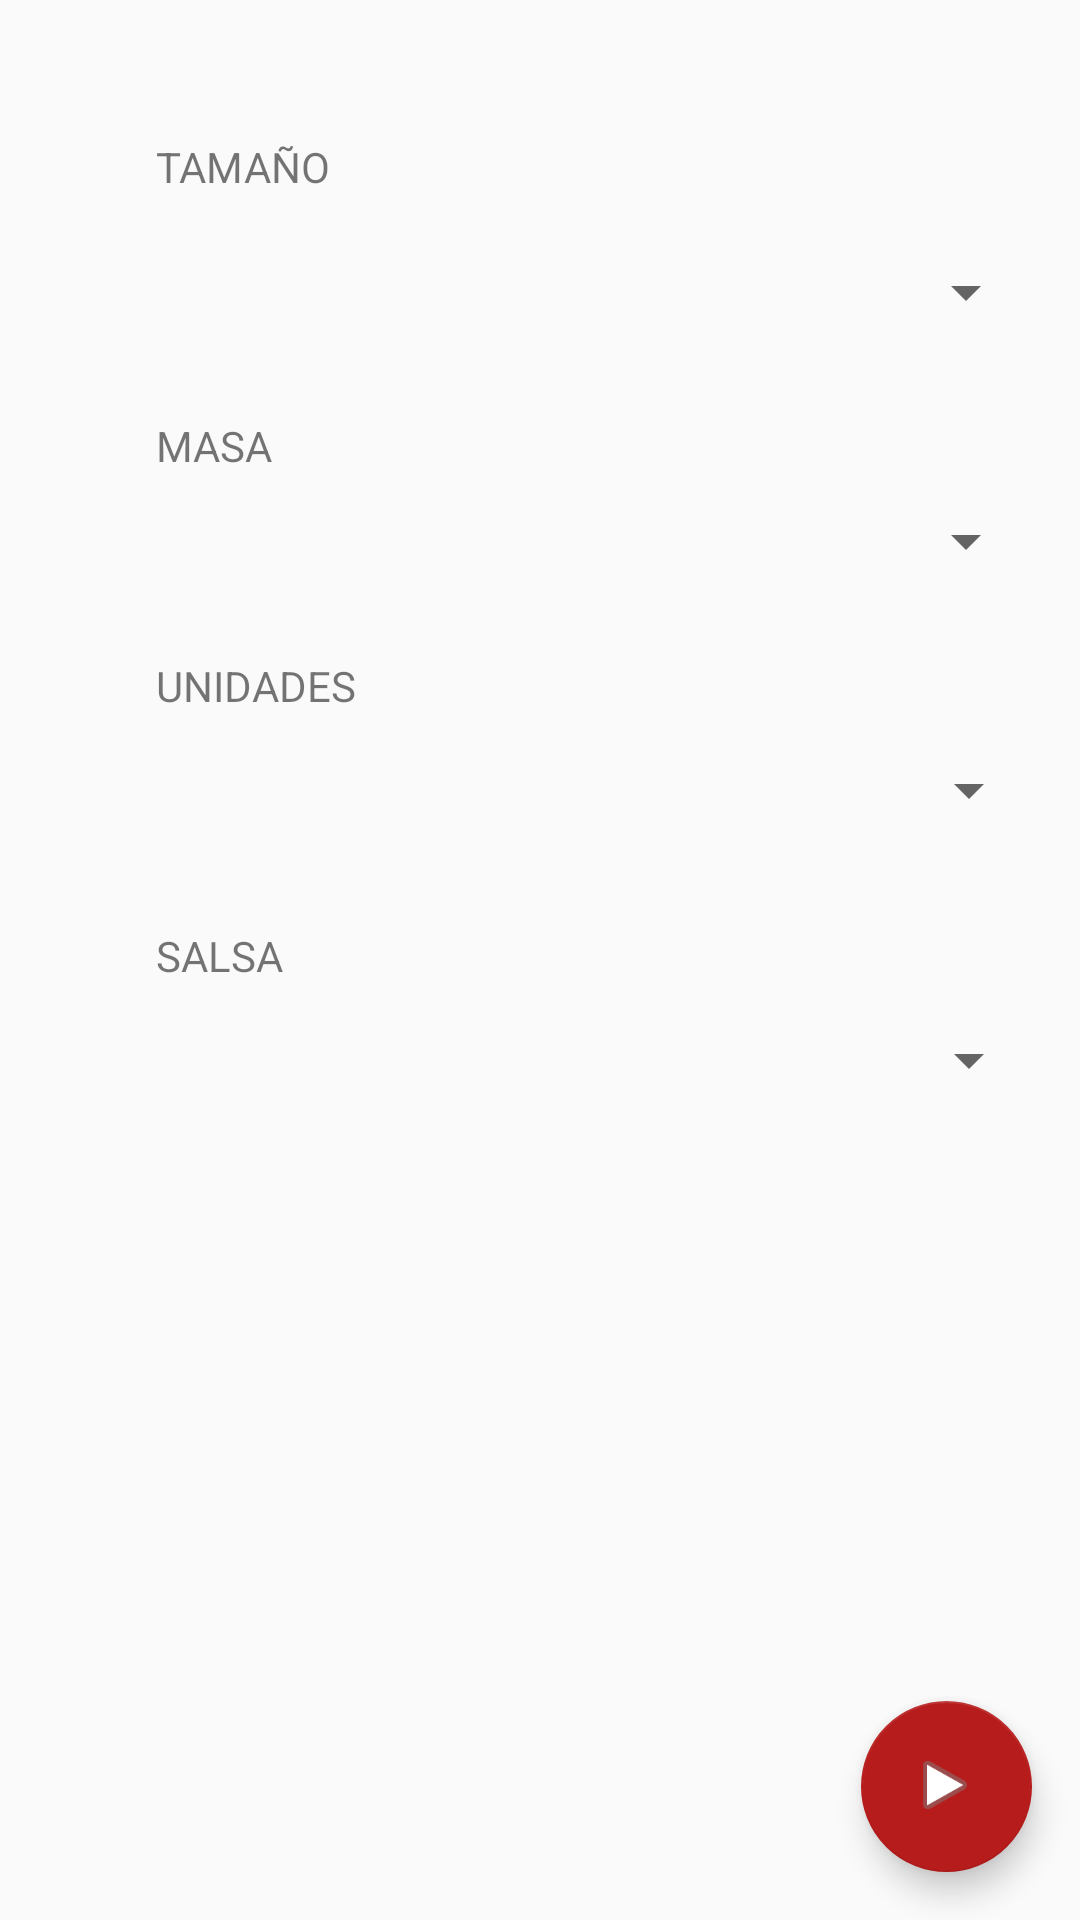

Where to tap for icons on this 1080*1920 app screen, as (x=x, y=y):
play: (x=946, y=1786)
